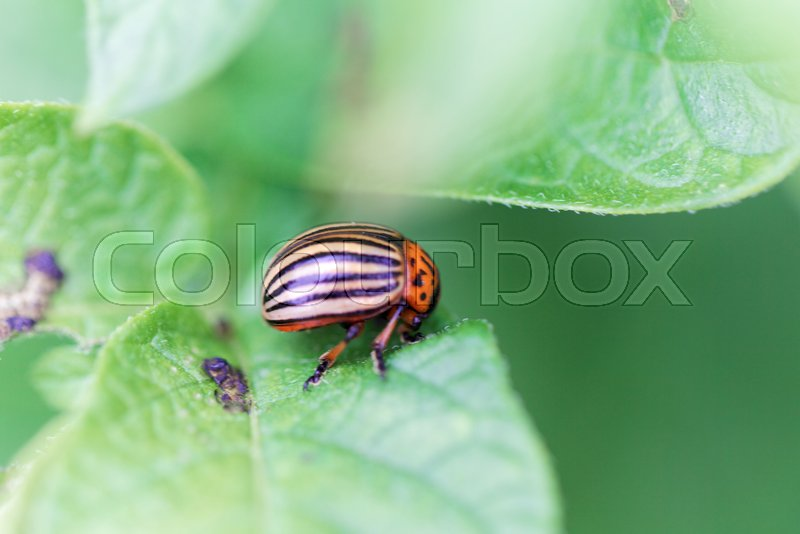hrosc: (253, 214, 466, 375)
